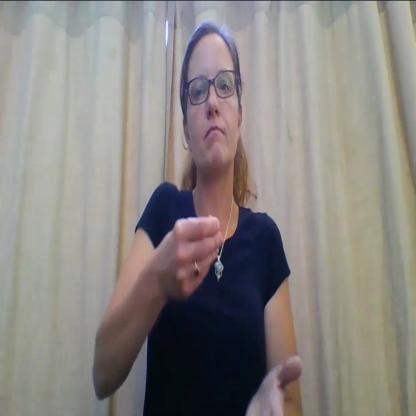Expensive: (152, 205, 297, 416)
